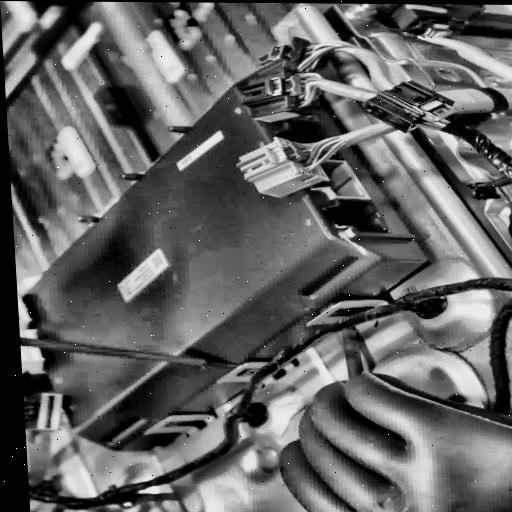bms_unit: (18, 56, 430, 454)
low_volt_cable: (29, 272, 512, 512), (356, 76, 512, 257), (484, 295, 512, 414)
